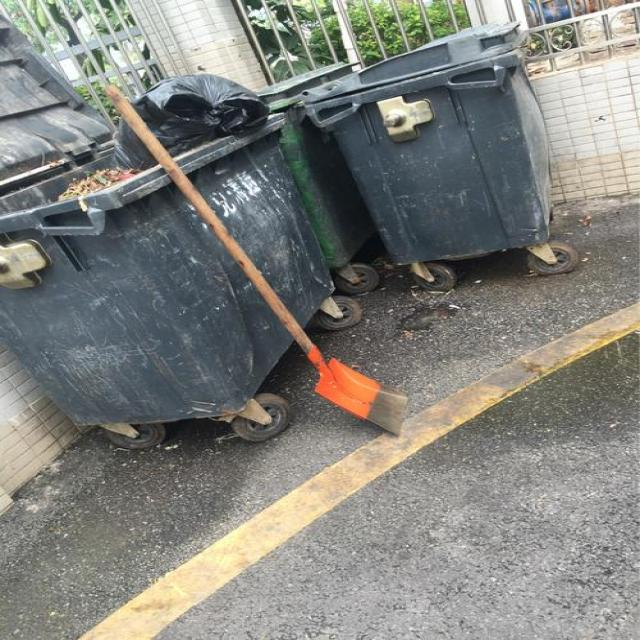garbage_bin: (298, 20, 552, 264)
overflow: (0, 74, 334, 428)
